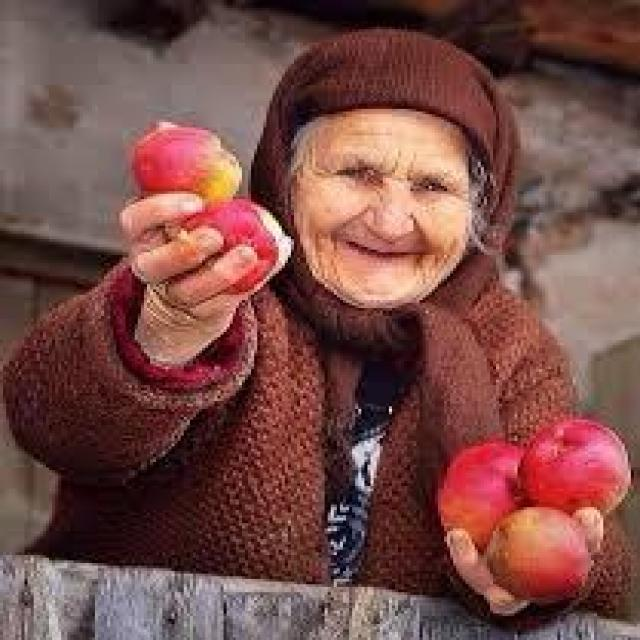person: (27, 29, 637, 614)
